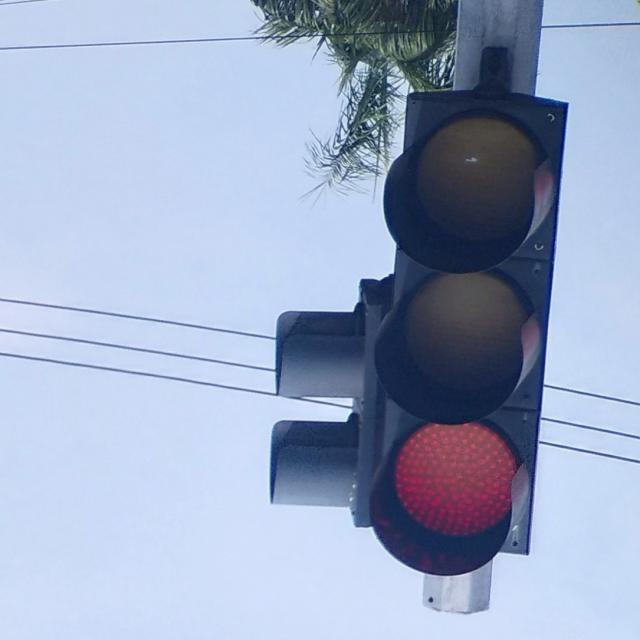red_light: (269, 88, 566, 573)
